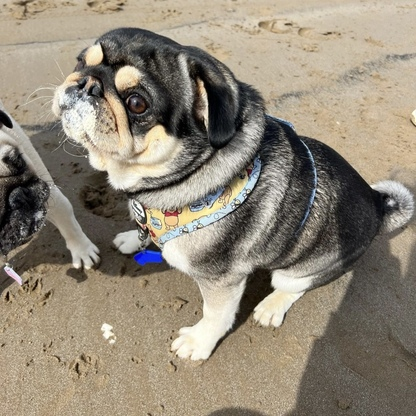Pug: (1, 21, 416, 371)
